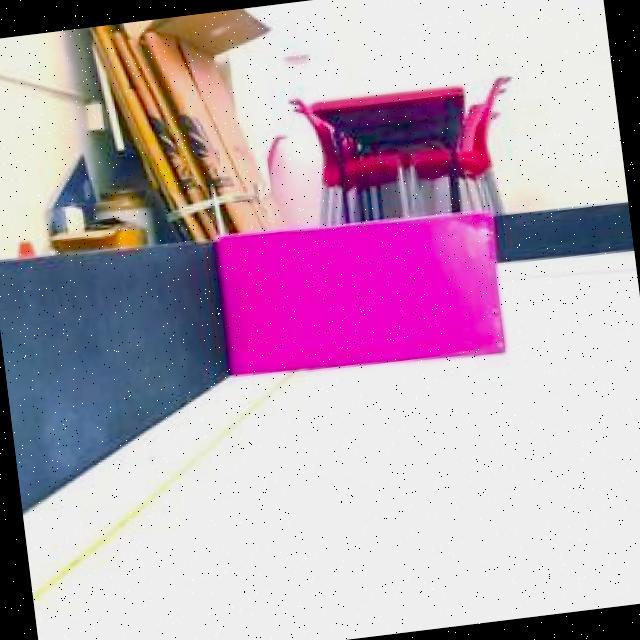xparking: (212, 206, 509, 382)
